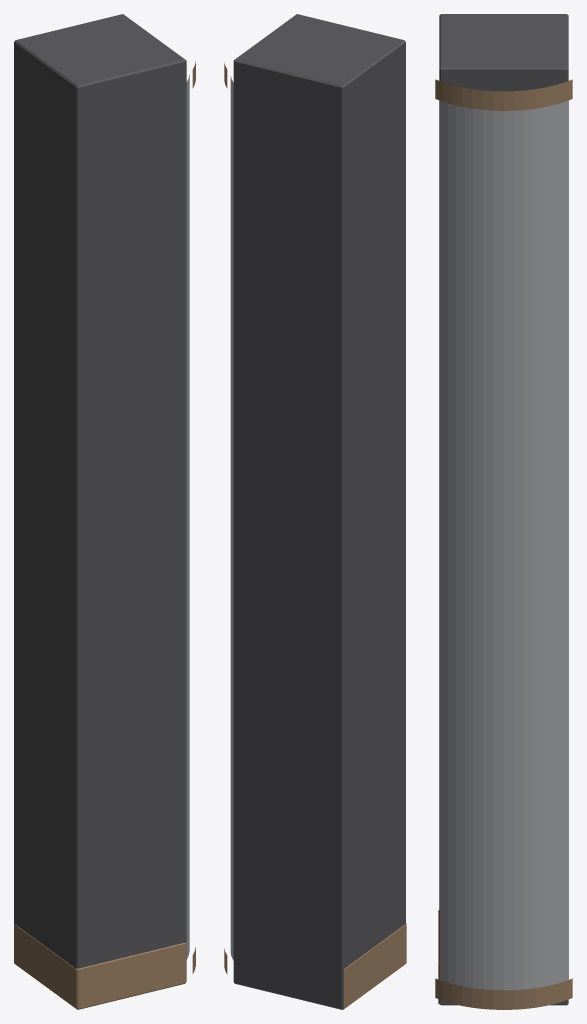
The model's file is music-recording-studio-and-instruments-bass-trap-corne-f09178e5__33818.glb.
3 views of the same model, side by side, from view 1: azimuth 30°, elevation 25°; view 2: azimuth 150°, elevation 25°; view 3: azimuth 270°, elevation 25° (orthographic).
Visible parts, largest first — view 1: bass-trap-corner; view 2: bass-trap-corner; view 3: bass-trap-corner.
Part boxes in pixels (<box>): bass-trap-corner: <box>14,14,195,1009</box>; bass-trap-corner: <box>224,14,406,1009</box>; bass-trap-corner: <box>435,14,572,1009</box>.
Bounding box in the file's own units: 0.376 × 2.4 × 0.318.
